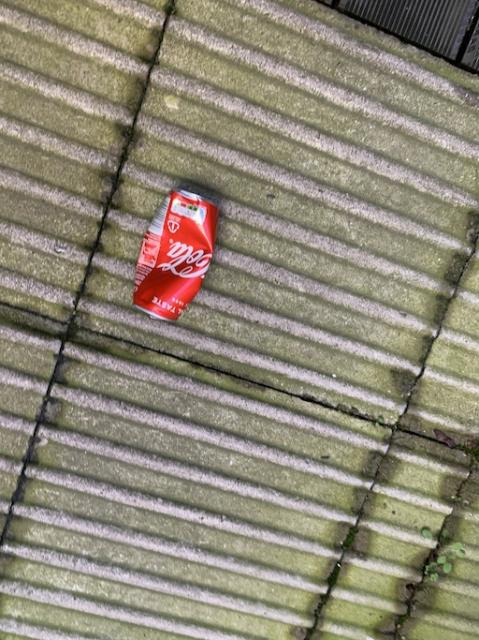metal: (132, 189, 216, 319)
